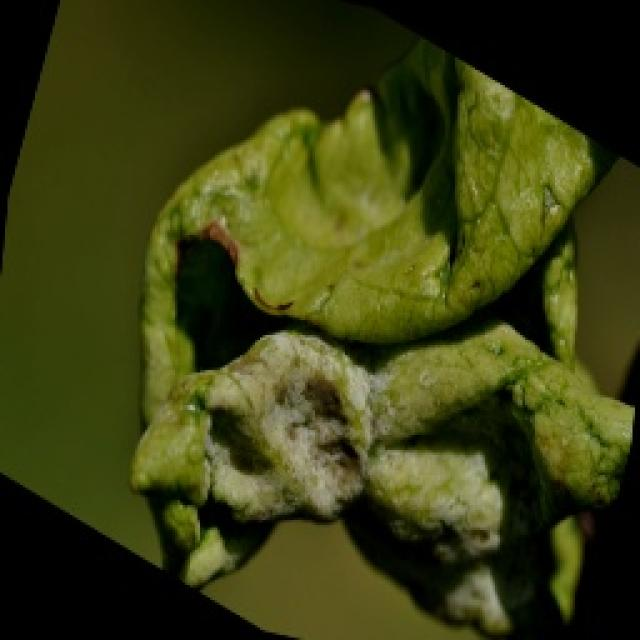peach_leaf_curl: (128, 38, 638, 638)
